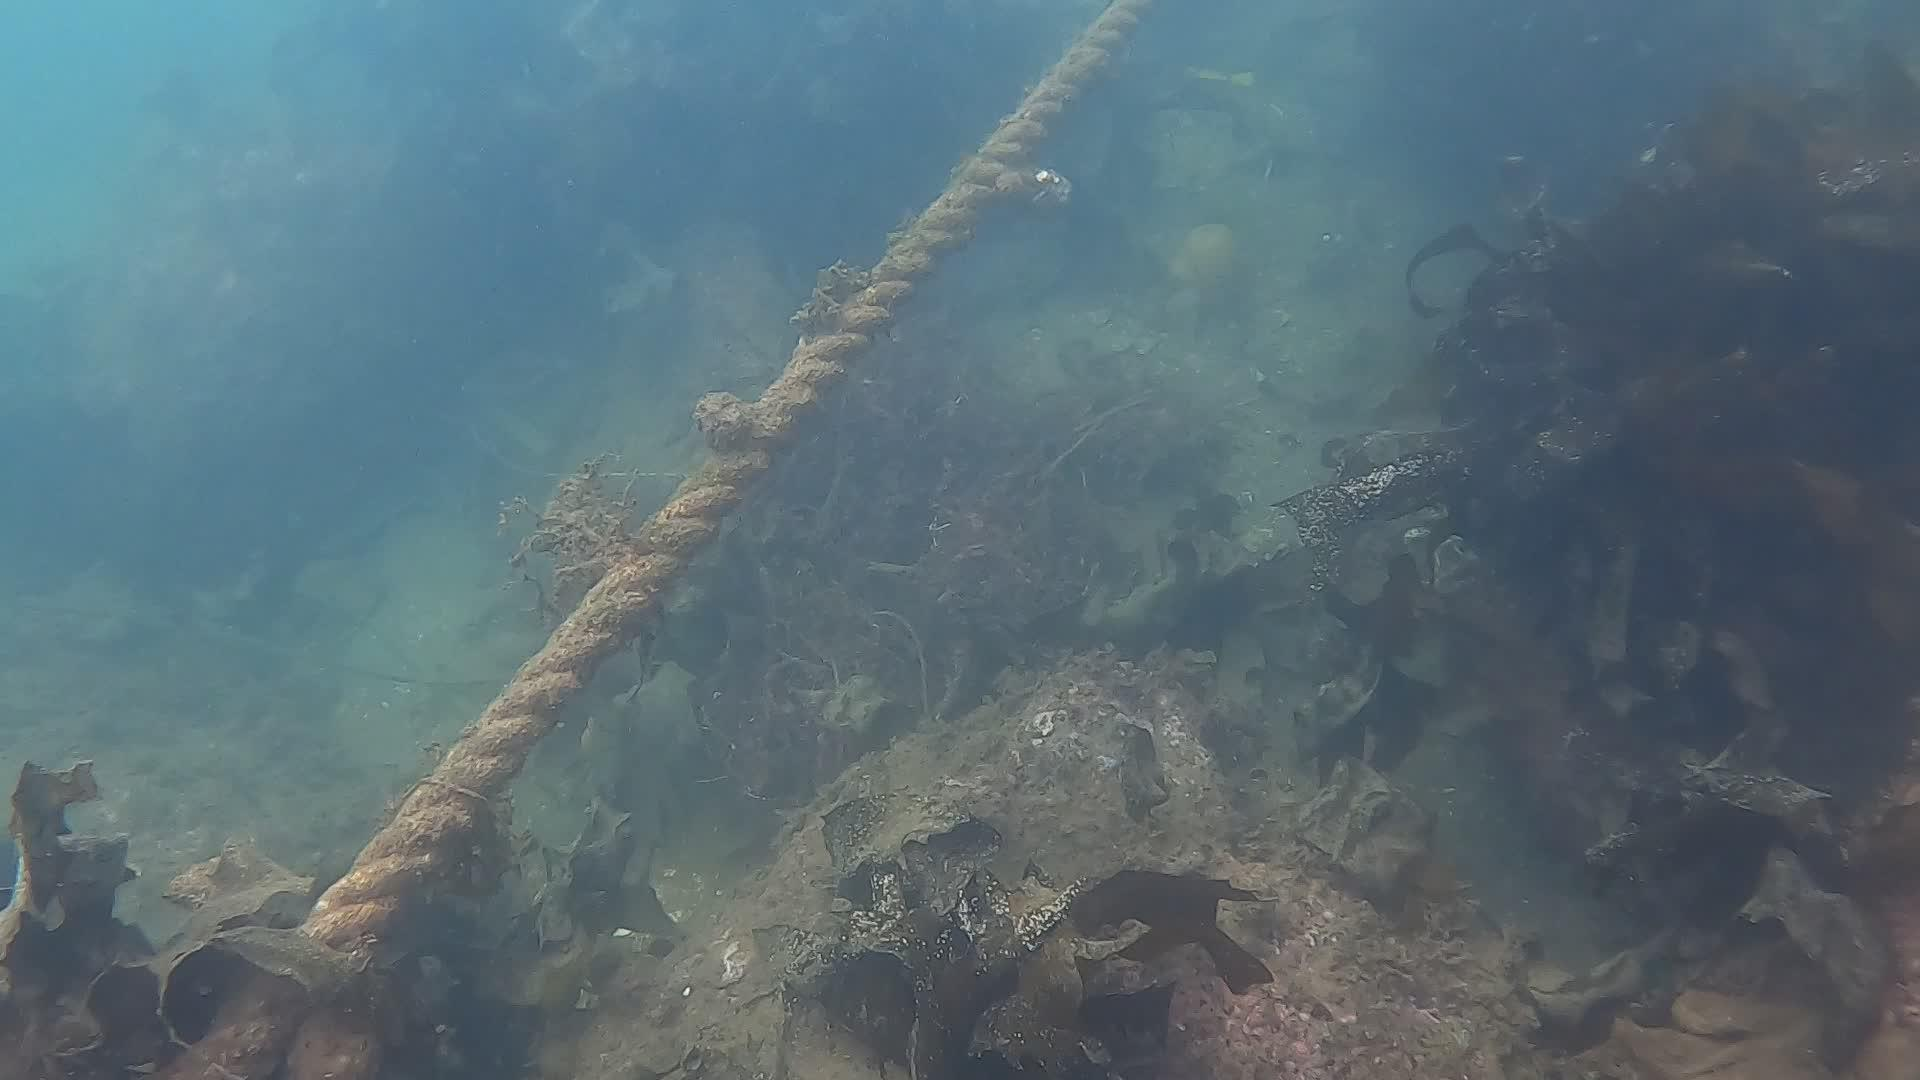rope: (182, 0, 1150, 1080)
